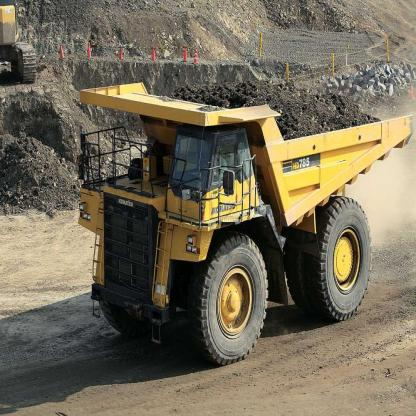dump_truck: (67, 75, 412, 368)
